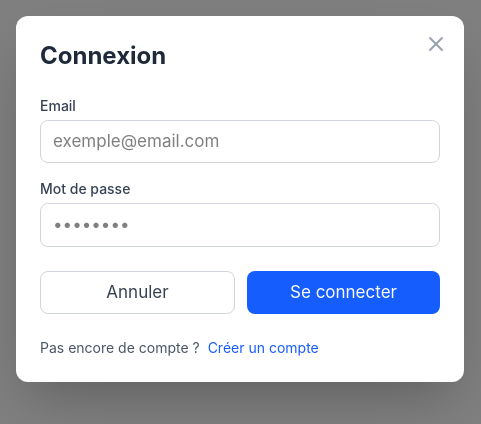
Test: LoginModal › désactive les champs et boutons pendant le chargement
Type "test@example.com" into the field labelled "Email" at (240, 142), box [40,120,440,163]
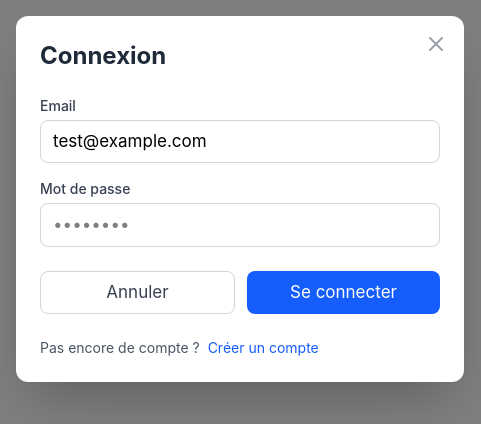
Type "password123" into the password field labelled "Mot de passe" at (240, 225), box [40,203,440,247]
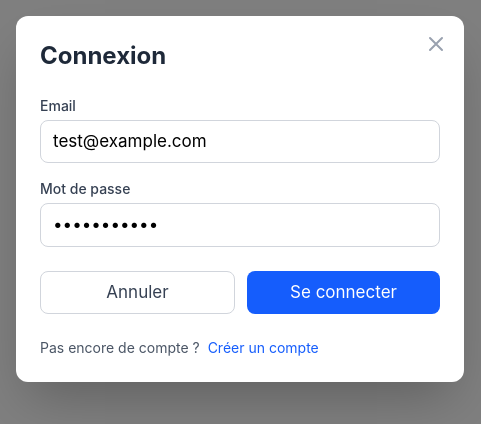
Submit the form, box [40,96,440,358]
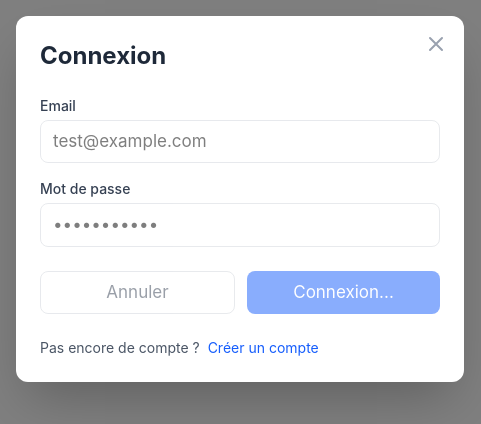
Check: the field labelled "Email" is disabled, box [40,120,440,163]
Check: the password field labelled "Mot de passe" is disabled, box [40,203,440,247]
